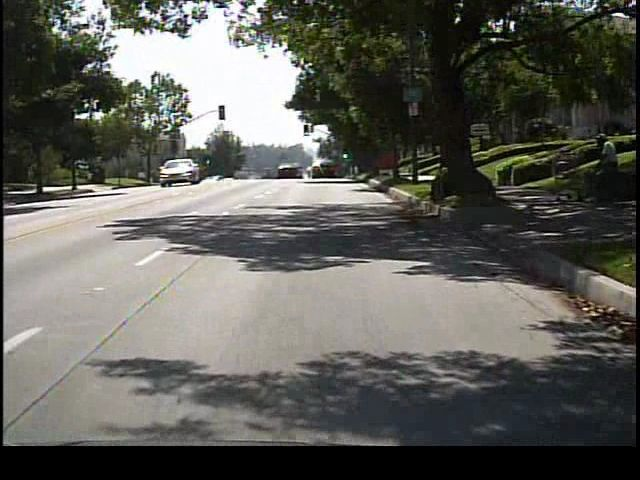person: (586, 130, 623, 214)
